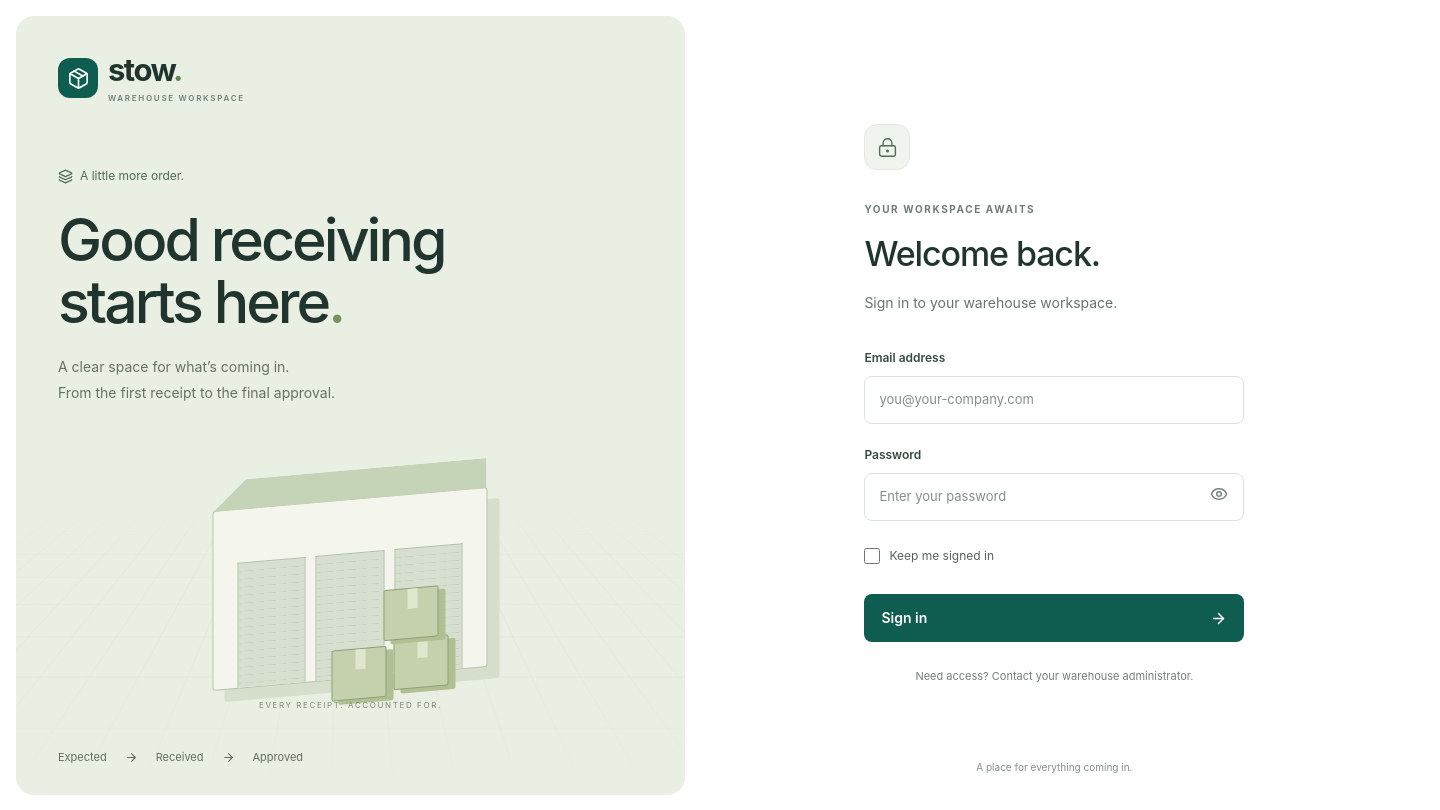
Test case: login feedback and role protection › validates labeled inputs and focuses the first invalid field without submitting
Step 1. Click the button "Sign in" → (904, 618), box [864,594,1244,642]
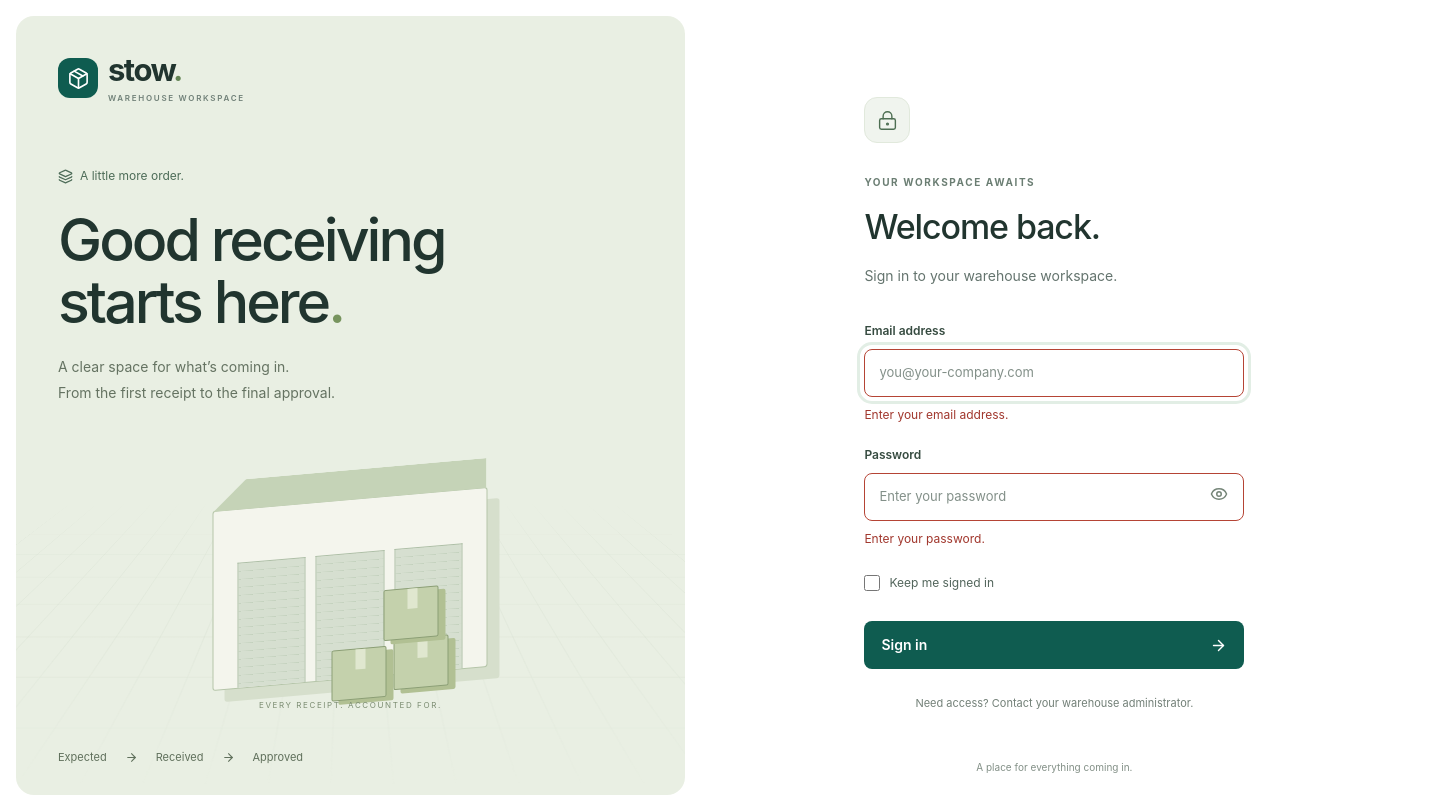
Check: the text "Enter your email address." is shown, box [864,407,1008,422]
Check: the text "Enter your password." is shown, box [864,531,985,546]
